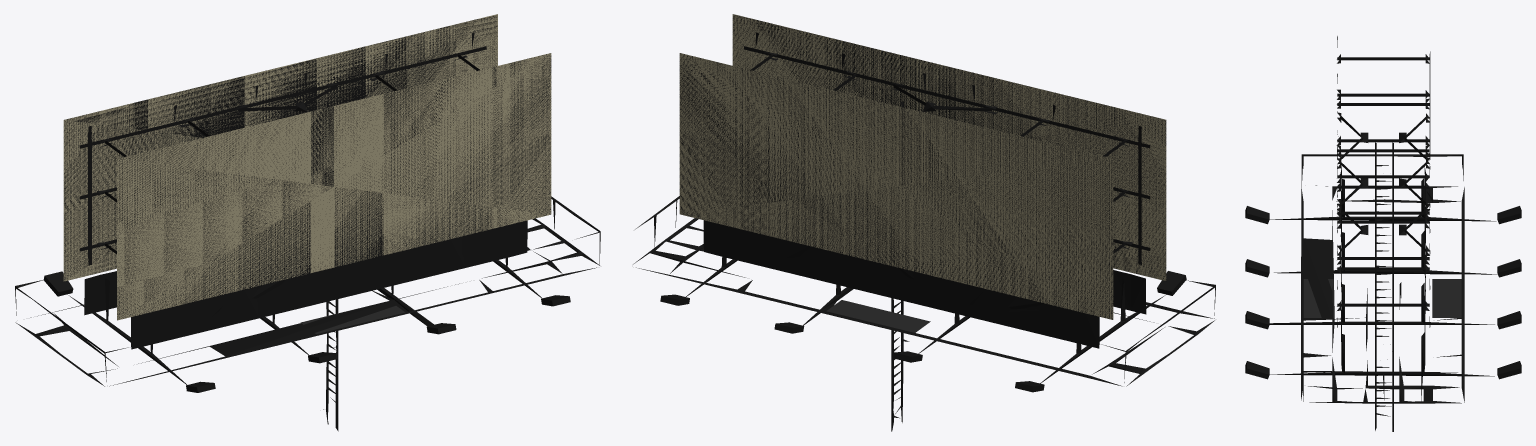
File: billboard-tall.lod1.glb
3 renders of one model, left to right at view 1: azimuth 30°, elevation 25°; view 2: azimuth 150°, elevation 25°; view 3: azimuth 270°, elevation 25°, orthographic. The views are drawn at different scales.
Parts seen in each view (by area): view 1: ADs_AD_0; view 2: ADs_AD_0; view 3: ADs_AD_0.
Boxes of the visible parts, box(x1,y1,x2,y2) form: ADs_AD_0: box(15, 14, 600, 431); ADs_AD_0: box(633, 14, 1215, 431); ADs_AD_0: box(1245, 36, 1521, 431).
Bounding box in the file's own units: 10.95 × 7.34 × 5.9.
